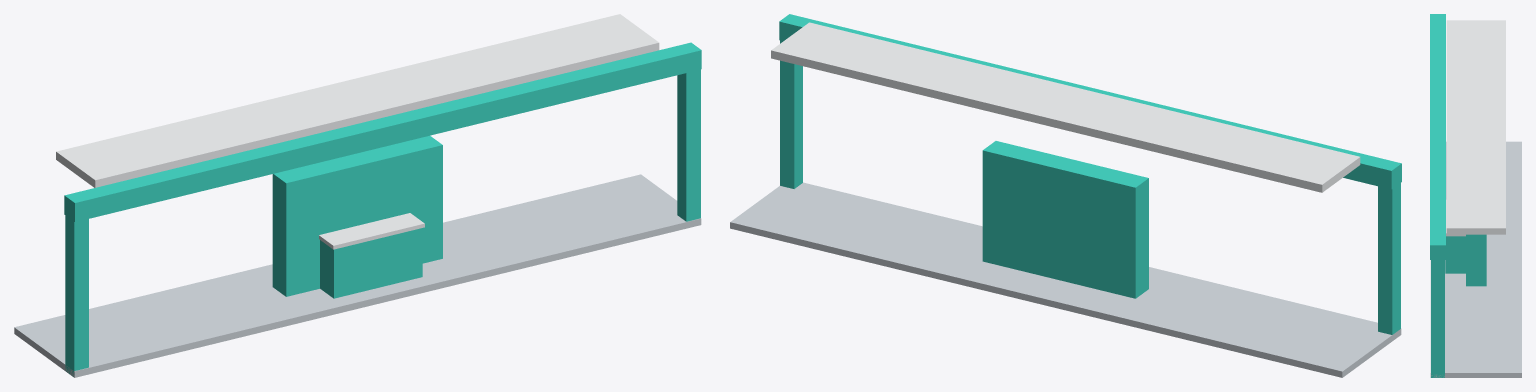
The picture shows the model from 3 angles, left to right: view 1: azimuth 30°, elevation 25°; view 2: azimuth 150°, elevation 25°; view 3: azimuth 270°, elevation 25°; orthographic projection. The views are drawn at different scales.
Parts seen in each view (by area): view 1: Exhibition Booth Concept; view 2: Exhibition Booth Concept; view 3: Exhibition Booth Concept.
Part boxes in pixels (x1=…): Exhibition Booth Concept: x1=14, y1=14, x2=701, y2=377; Exhibition Booth Concept: x1=730, y1=14, x2=1401, y2=377; Exhibition Booth Concept: x1=1430, y1=14, x2=1521, y2=377.
Bounding box in the file's own units: 12 × 3.34 × 2.01.
